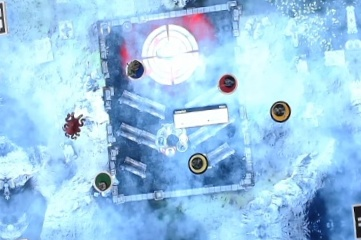blue: (124, 57, 149, 82)
giant_red_octopus: (58, 108, 88, 142)
green: (93, 169, 118, 194)
lime_green_violet: (185, 151, 210, 176)
red: (216, 70, 241, 96)
yellow_night_blue: (267, 99, 292, 125)
